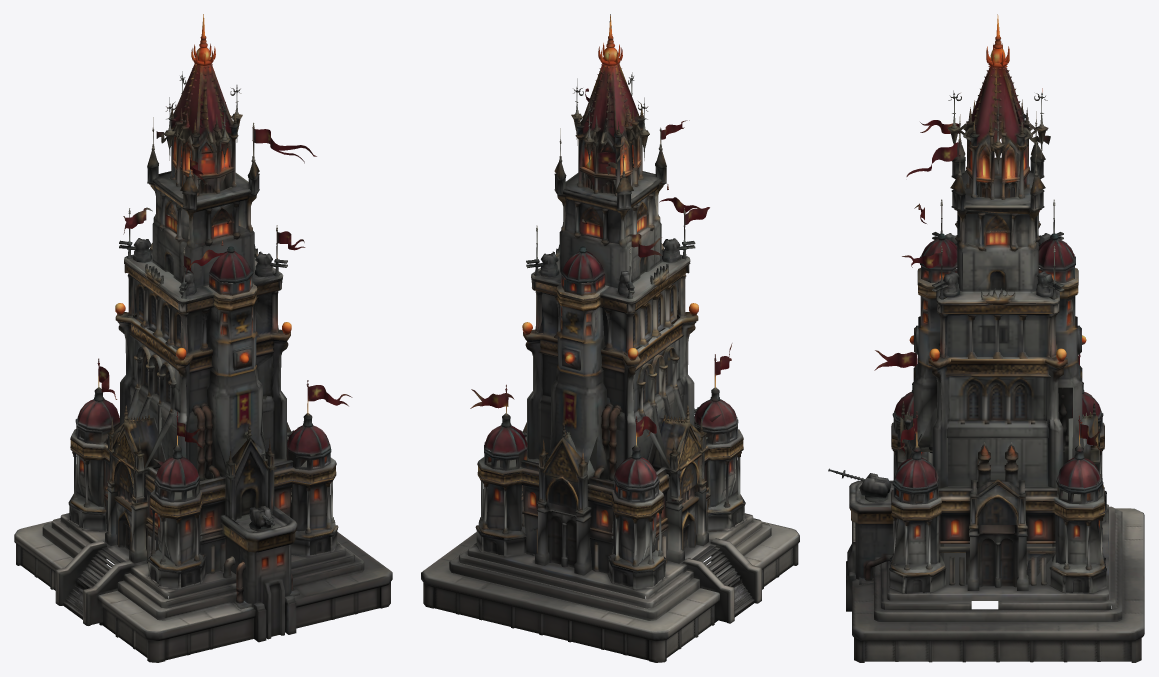
File: 人類帝國風_01巨塔_設計圖.glb
The picture shows the model from 3 angles, left to right: view 1: azimuth 30°, elevation 25°; view 2: azimuth 150°, elevation 25°; view 3: azimuth 270°, elevation 25°; orthographic projection. The views are drawn at different scales.
Parts seen in each view (by area): view 1: tripo_node_174a0aec-99a7-4f8e-944f-0415f57a4047; view 2: tripo_node_174a0aec-99a7-4f8e-944f-0415f57a4047; view 3: tripo_node_174a0aec-99a7-4f8e-944f-0415f57a4047.
Boxes of the visible parts, box(x1,y1,x2,y2) form: tripo_node_174a0aec-99a7-4f8e-944f-0415f57a4047: box(14, 14, 392, 662); tripo_node_174a0aec-99a7-4f8e-944f-0415f57a4047: box(421, 14, 799, 662); tripo_node_174a0aec-99a7-4f8e-944f-0415f57a4047: box(828, 14, 1144, 662).
Size of the model in its own units: 0.4722 by 0.9995 by 0.4868.
Materials: 1 (1 with a texture image).
